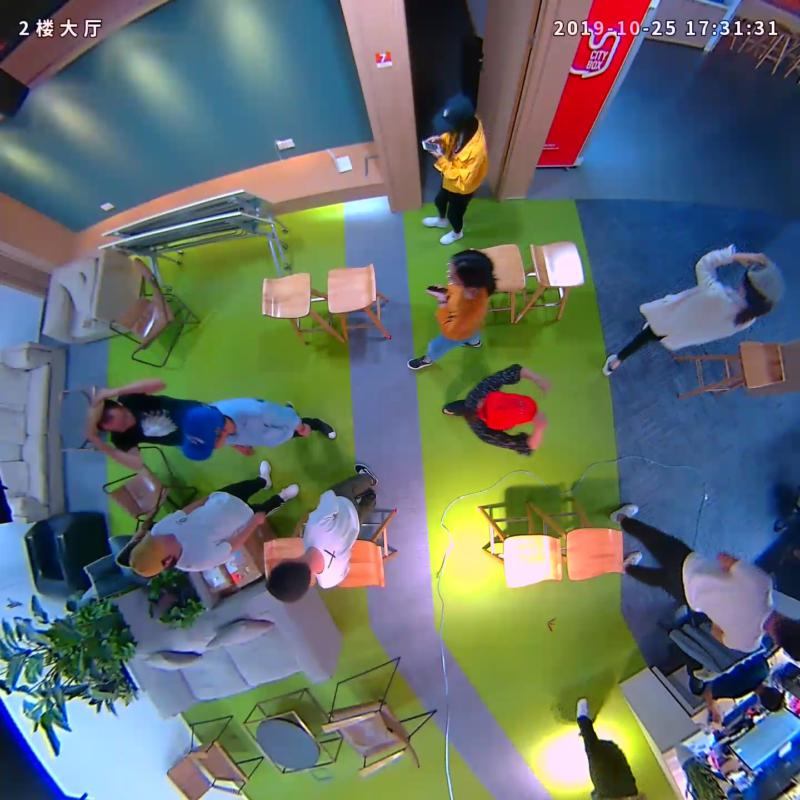head: (180, 404, 227, 460), (129, 529, 180, 579), (476, 391, 538, 432), (740, 259, 785, 311), (264, 559, 313, 603), (447, 250, 494, 290), (431, 93, 474, 136), (92, 398, 136, 434)
